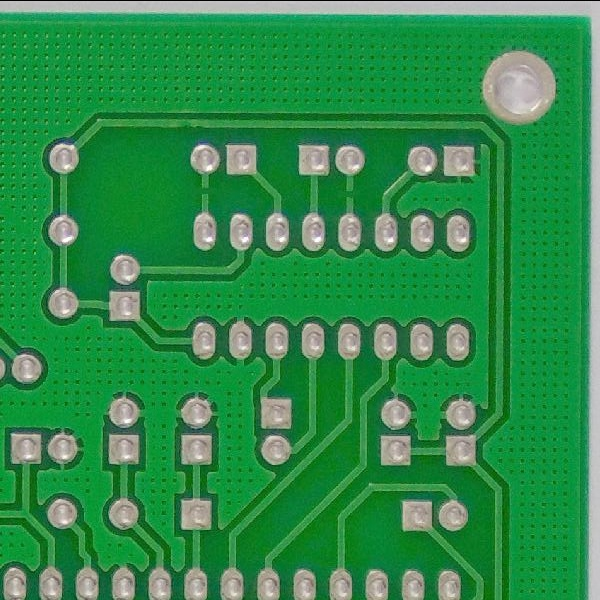open_circuit: (197, 183, 214, 199), (343, 185, 358, 201)
